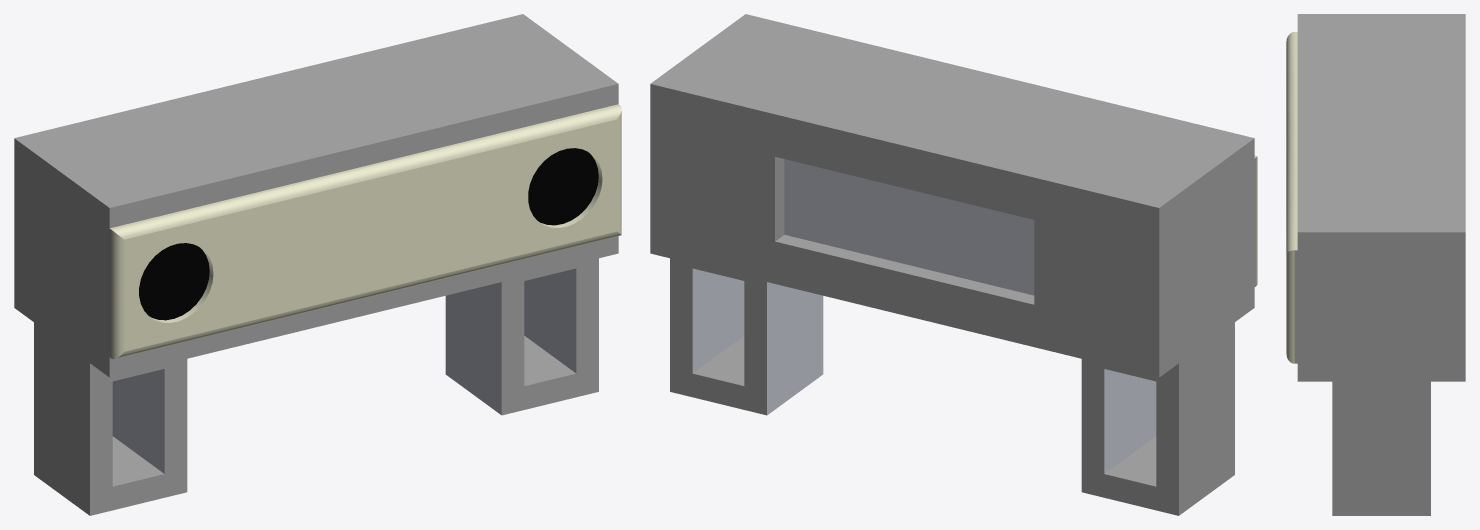
File: bb2_on_tilt_mount.dae
3 views of the same model, side by side, from view 1: azimuth 30°, elevation 25°; view 2: azimuth 150°, elevation 25°; view 3: azimuth 270°, elevation 25° (orthographic). The views are drawn at different scales.
Parts seen in each view (by area): view 1: mesh_1, mesh_3, mesh_2, mesh_4; view 2: mesh_1, mesh_2; view 3: mesh_1, mesh_3.
Boxes of the visible parts, x1=… form: mesh_1: x1=14, y1=14, x2=618, y2=515; mesh_3: x1=110, y1=104, x2=621, y2=359; mesh_2: x1=112, y1=268, x2=576, y2=473; mesh_4: x1=139, y1=148, x2=598, y2=320; mesh_1: x1=650, y1=14, x2=1256, y2=515; mesh_2: x1=692, y1=159, x2=1156, y2=473; mesh_1: x1=1294, y1=14, x2=1465, y2=515; mesh_3: x1=1286, y1=32, x2=1297, y2=363.
Size of the model in its own units: 0.157 by 0.0545 by 0.095.
